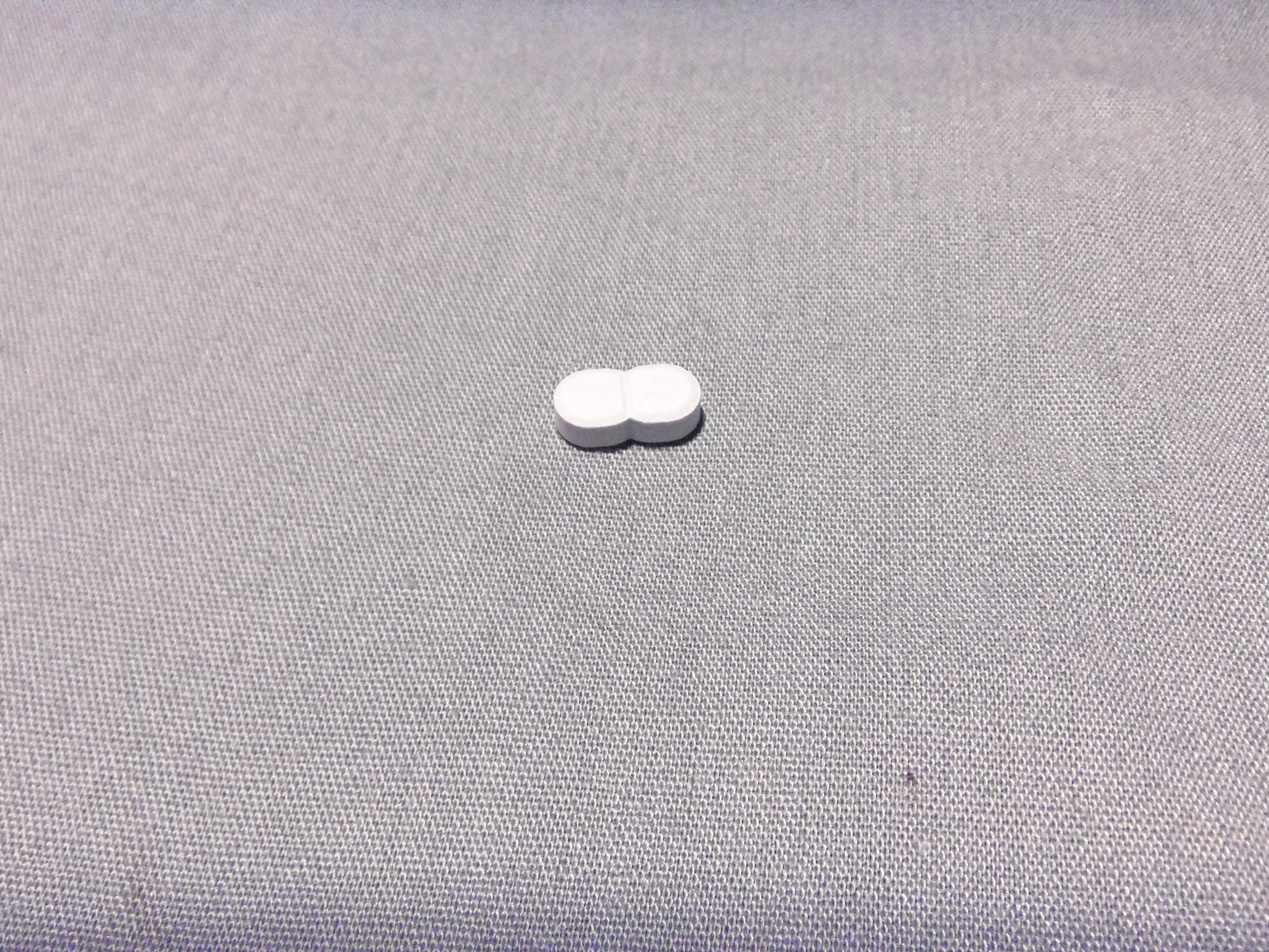Pill: (537, 339, 715, 470)
